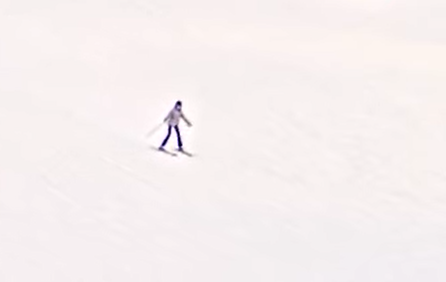skier: (139, 95, 206, 165)
